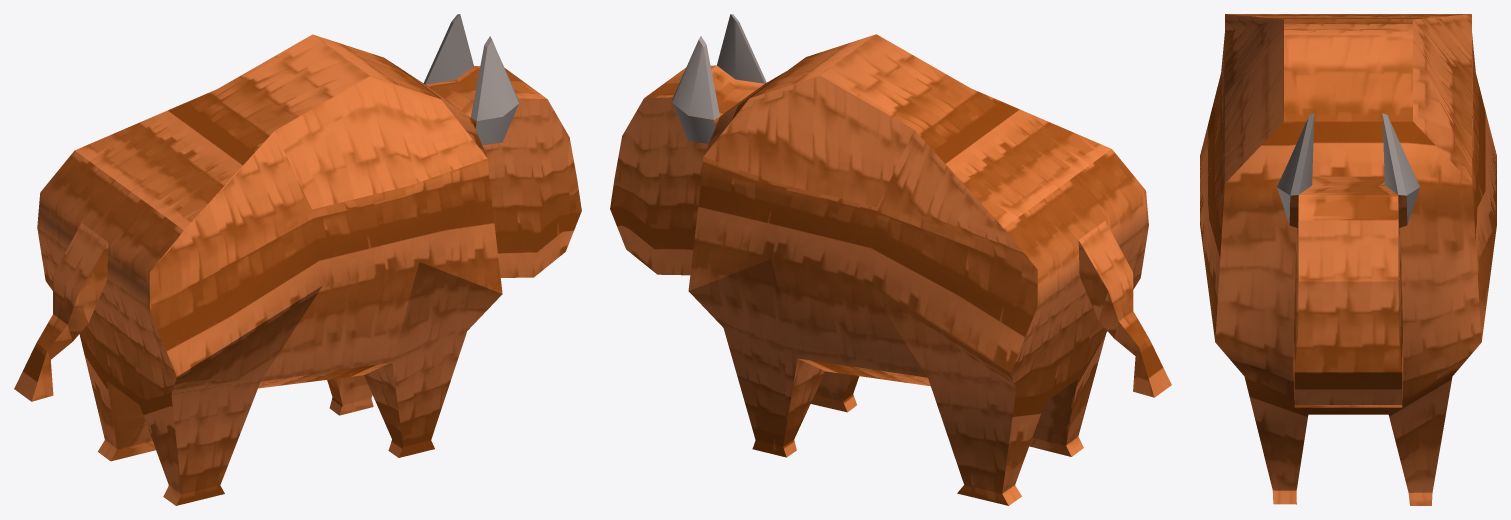
Rendered from BISONTE.fbx.
The picture shows the model from 3 angles, left to right: view 1: azimuth 30°, elevation 25°; view 2: azimuth 150°, elevation 25°; view 3: azimuth 270°, elevation 25°; orthographic projection. The views are drawn at different scales.
Visible parts, largest first — view 1: Bisonte; view 2: Bisonte; view 3: Bisonte.
Part boxes in pixels (bbox=[...]): Bisonte: bbox=[14, 14, 581, 505]; Bisonte: bbox=[610, 14, 1171, 505]; Bisonte: bbox=[1200, 14, 1496, 505].
Bounding box in the file's own units: 9.38 × 6.46 × 3.98.
